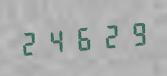four: (44, 23, 69, 57)
nine: (122, 16, 147, 50)
six: (70, 21, 95, 54)
two: (18, 25, 43, 59), (96, 18, 121, 52)
